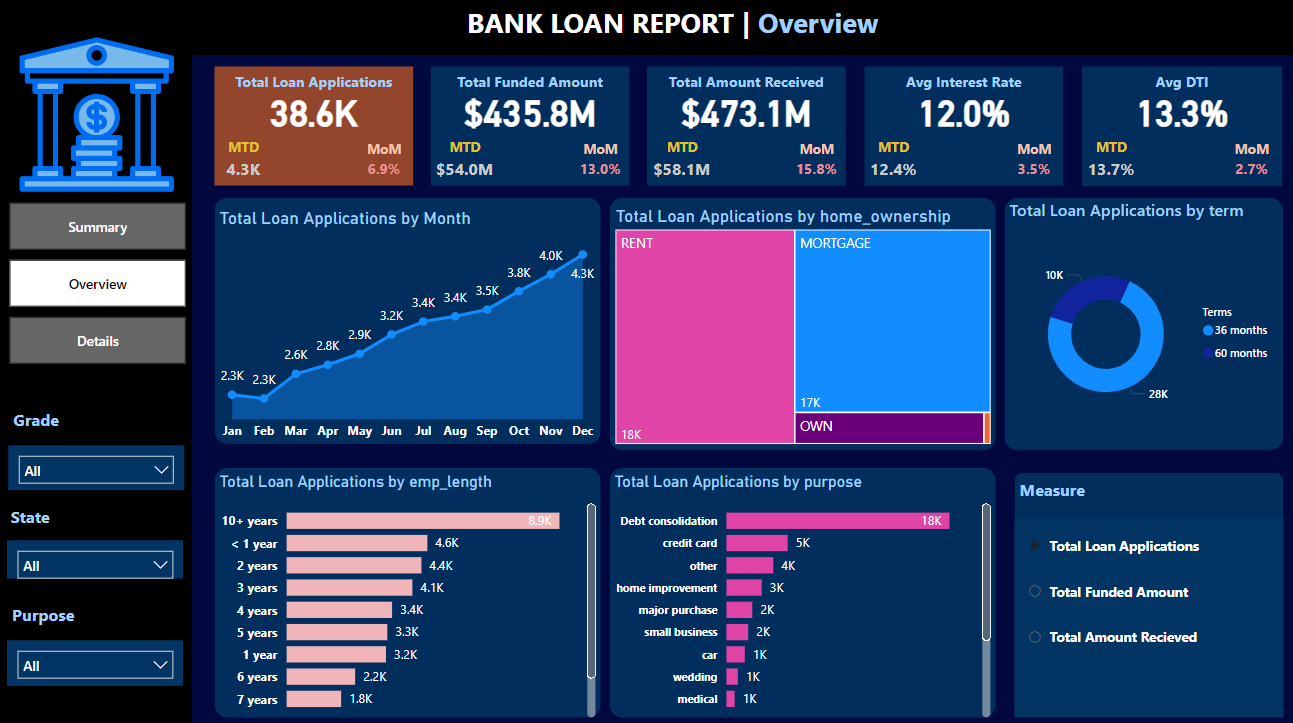

Layout of this report page (visuals, bound fields, positions):
{"tool":"powerbi","page":{"name":"Overview","canvas":[1280,720],"ordinal":1},"visuals":[{"type":"shape","box":[0,54,191.4,666.3],"z":0,"group":"g1"},{"type":"shape","box":[1065.4,66,196.4,117.5],"z":0,"group":"g6"},{"type":"shape","box":[214,66.1,195,117],"z":0,"group":"g2"},{"type":"shape","box":[426.3,66.1,195,117],"z":0,"group":"g3"},{"type":"shape","box":[638.5,66.1,195,117],"z":0,"group":"g4"},{"type":"shape","box":[851.8,66.1,195,117],"z":0,"group":"g5"},{"type":"shape","box":[998.8,465,263.8,149.7],"z":0},{"type":"card","fields":{"Values":["financial_loan.Total_Loan_Applications"]},"box":[214,82.1,195,55],"z":1000,"group":"g2"},{"type":"card","fields":{"Values":["financial_loan.Total Funded Amount"]},"box":[426.3,82.1,195,55],"z":1000,"group":"g3"},{"type":"card","fields":{"Values":["financial_loan.Total Amount Recieved"]},"box":[638.5,82.1,195,55],"z":1000,"group":"g4"},{"type":"card","fields":{"Values":["financial_loan.Avg Interest Rate"]},"box":[851.8,82.1,195,55],"z":1000,"group":"g5"},{"type":"card","fields":{"Values":["financial_loan.Avg DTI"]},"box":[1065.4,82.1,196.4,55.2],"z":1000,"group":"g6"},{"type":"shape","box":[213.5,460.1,379.1,245.4],"z":1000},{"type":"textbox","box":[1065.4,66,196.4,32.1],"z":2000,"group":"g6"},{"type":"textbox","box":[214,66.1,195,32],"z":2000,"group":"g2"},{"type":"textbox","box":[426.3,66.1,195,32],"z":2000,"group":"g3"},{"type":"textbox","box":[638.5,66.1,195,32],"z":2000,"group":"g4"},{"type":"textbox","box":[851.8,66.1,195,32],"z":2000,"group":"g5"},{"type":"barChart","fields":{"Y":["financial_loan.Total Loan Applications"],"Category":["financial_loan.emp_length"]},"box":[213.5,465,379.1,245.4],"z":2000},{"type":"shape","box":[0,0,1280,55],"z":3000},{"type":"card","title":"MTD","fields":{"Values":["financial_loan.MTD_Total_Loan_Applications"]},"box":[214,136.1,57,47],"z":3000,"group":"g2"},{"type":"card","title":"MTD","fields":{"Values":["financial_loan.MTD_Funded_Amount"]},"box":[426.3,136.1,67,47],"z":3000,"group":"g3"},{"type":"card","title":"MTD","fields":{"Values":["financial_loan.MTD_Amount_Recieved"]},"box":[638.5,136.1,69,47],"z":3000,"group":"g4"},{"type":"card","title":"MTD","fields":{"Values":["financial_loan.MTD Avg Rate"]},"box":[851.8,136.1,57,47],"z":3000,"group":"g5"},{"type":"card","title":"MTD","fields":{"Values":["financial_loan.MTD Avg DTI"]},"box":[1065.4,136.3,57.4,47.2],"z":3000,"group":"g6"},{"type":"group","id":"g1","title":"Group 5","box":[0,54,191.4,666.3],"z":4000},{"type":"card","title":"MoM","fields":{"Values":["financial_loan.MoM_Loan_Applications"]},"box":[351,137.1,58,46],"z":4000,"group":"g2"},{"type":"card","title":"MoM","fields":{"Values":["financial_loan.MoM_Funded_Amount"]},"box":[563.3,137.1,58,46],"z":4000,"group":"g3"},{"type":"card","title":"MoM","fields":{"Values":["financial_loan.MoM Amount Recieved"]},"box":[775.5,137.1,58,46],"z":4000,"group":"g4"},{"type":"card","title":"MoM","fields":{"Values":["financial_loan.MoM Avg Rate"]},"box":[988.8,137.1,58,46],"z":4000,"group":"g5"},{"type":"card","title":"MoM","fields":{"Values":["financial_loan.MoM Avg DTI"]},"box":[1203.4,137.3,58.4,46.2],"z":4000,"group":"g6"},{"type":"shape","box":[213.5,195.1,379.1,241.7],"z":5000},{"type":"textbox","box":[456,0,568,55],"z":6000},{"type":"textbox","box":[11,396.3,172.7,41],"z":6000,"group":"g9"},{"type":"textbox","box":[8.8,492.1,85.9,33.1],"z":6000,"group":"g7"},{"type":"textbox","box":[9.8,587.7,86.5,33.7],"z":6000,"group":"g8"},{"type":"group","id":"g2","title":"Group 1","box":[214,66.1,194.5,116.7],"z":7000},{"type":"group","id":"g3","title":"Group 1","box":[426.3,66.1,194.5,116.7],"z":8000},{"type":"group","id":"g4","title":"Group 1","box":[638.5,66.1,195.5,116.7],"z":9000},{"type":"group","id":"g5","title":"Group 1","box":[851.8,66.1,195.5,116.7],"z":10000},{"type":"group","id":"g6","title":"Group 1","box":[1065.4,66,196.9,117.2],"z":11000},{"type":"shape","box":[989,195.1,273.6,247.9],"z":12000},{"type":"shape","box":[601.2,460.1,379.1,245.4],"z":13000},{"type":"areaChart","fields":{"Y":["financial_loan.Total Loan Applications"],"Category":["Date Table.Month"]},"box":[213.5,204.9,379.1,236.8],"z":14000},{"type":"slicer","fields":{"Values":["Measure.Measure"]},"box":[998.8,509.2,263.8,196.3],"z":15000},{"type":"slicer","fields":{"Values":["financial_loan.grade"]},"box":[11.3,438.2,172.7,44],"z":16000,"group":"g9"},{"type":"textbox","box":[998.8,465,121.5,44.2],"z":16000},{"type":"slicer","fields":{"Values":["financial_loan.address_state"]},"box":[9.8,531.8,173,37.6],"z":16000,"group":"g7"},{"type":"slicer","fields":{"Values":["financial_loan.purpose"]},"box":[9.8,629,173,44.6],"z":16000,"group":"g8"},{"type":"donutChart","fields":{"Y":["financial_loan.Total Loan Applications"],"Category":["financial_loan.term"]},"box":[989,195.1,272.4,246.6],"z":17000},{"type":"barChart","fields":{"Y":["financial_loan.Total Loan Applications"],"Category":["financial_loan.purpose"]},"box":[601.2,465,379.1,245.4],"z":18000},{"type":"shape","box":[601.2,195.1,379.1,247.9],"z":19000},{"type":"treemap","fields":{"Values":["financial_loan.Total Loan Applications"],"Group":["financial_loan.home_ownership"]},"box":[602.5,202.5,377.9,239.3],"z":20000},{"type":"group","id":"g7","title":"Group 4","box":[8.8,492.1,174,77.2],"z":21000},{"type":"group","id":"g8","title":"Group 4","box":[9.8,587.7,173,85.9],"z":22000},{"type":"group","id":"g9","title":"Group 6","box":[11,396.3,173,85.9],"z":23000},{"type":"pageNavigator","box":[12.3,200,173,159.5],"z":23001},{"type":"image","box":[12.3,27,171.8,173],"z":23002}]}

Visuals, with their boxes in screenshot pixels (x1, y1, x2, y2), scaled from the page's 1280x720 canvas onto the 1293x723 screenshot:
shape: <bbox>0, 54, 193, 722</bbox>
shape: <bbox>1076, 66, 1275, 184</bbox>
shape: <bbox>216, 66, 413, 184</bbox>
shape: <bbox>431, 66, 628, 184</bbox>
shape: <bbox>645, 66, 842, 184</bbox>
shape: <bbox>860, 66, 1057, 184</bbox>
shape: <bbox>1009, 467, 1275, 617</bbox>
card - financial_loan.Total_Loan_Applications: <bbox>216, 82, 413, 138</bbox>
card - financial_loan.Total Funded Amount: <bbox>431, 82, 628, 138</bbox>
card - financial_loan.Total Amount Recieved: <bbox>645, 82, 842, 138</bbox>
card - financial_loan.Avg Interest Rate: <bbox>860, 82, 1057, 138</bbox>
card - financial_loan.Avg DTI: <bbox>1076, 82, 1275, 138</bbox>
shape: <bbox>216, 462, 599, 708</bbox>
textbox: <bbox>1076, 66, 1275, 99</bbox>
textbox: <bbox>216, 66, 413, 99</bbox>
textbox: <bbox>431, 66, 628, 99</bbox>
textbox: <bbox>645, 66, 842, 99</bbox>
textbox: <bbox>860, 66, 1057, 99</bbox>
barChart - financial_loan.Total Loan Applications x financial_loan.emp_length: <bbox>216, 467, 599, 713</bbox>
shape: <bbox>0, 0, 1292, 55</bbox>
"MTD" card: <bbox>216, 137, 274, 184</bbox>
"MTD" card: <bbox>431, 137, 498, 184</bbox>
"MTD" card: <bbox>645, 137, 715, 184</bbox>
"MTD" card: <bbox>860, 137, 918, 184</bbox>
"MTD" card: <bbox>1076, 137, 1134, 184</bbox>
"Group 5" group: <bbox>0, 54, 193, 722</bbox>
"MoM" card: <bbox>355, 138, 413, 184</bbox>
"MoM" card: <bbox>569, 138, 628, 184</bbox>
"MoM" card: <bbox>783, 138, 842, 184</bbox>
"MoM" card: <bbox>999, 138, 1057, 184</bbox>
"MoM" card: <bbox>1216, 138, 1275, 184</bbox>
shape: <bbox>216, 196, 599, 439</bbox>
textbox: <bbox>461, 0, 1034, 55</bbox>
textbox: <bbox>11, 398, 186, 439</bbox>
textbox: <bbox>9, 494, 96, 527</bbox>
textbox: <bbox>10, 590, 97, 624</bbox>
"Group 1" group: <bbox>216, 66, 413, 184</bbox>
"Group 1" group: <bbox>431, 66, 627, 184</bbox>
"Group 1" group: <bbox>645, 66, 842, 184</bbox>
"Group 1" group: <bbox>860, 66, 1058, 184</bbox>
"Group 1" group: <bbox>1076, 66, 1275, 184</bbox>
shape: <bbox>999, 196, 1275, 445</bbox>
shape: <bbox>607, 462, 990, 708</bbox>
areaChart - financial_loan.Total Loan Applications x Date Table.Month: <bbox>216, 206, 599, 444</bbox>
slicer - Measure.Measure: <bbox>1009, 511, 1275, 708</bbox>
slicer - financial_loan.grade: <bbox>11, 440, 186, 484</bbox>
textbox: <bbox>1009, 467, 1132, 511</bbox>
slicer - financial_loan.address_state: <bbox>10, 534, 185, 572</bbox>
slicer - financial_loan.purpose: <bbox>10, 632, 185, 676</bbox>
donutChart - financial_loan.Total Loan Applications x financial_loan.term: <bbox>999, 196, 1274, 444</bbox>
barChart - financial_loan.Total Loan Applications x financial_loan.purpose: <bbox>607, 467, 990, 713</bbox>
shape: <bbox>607, 196, 990, 445</bbox>
treemap - financial_loan.Total Loan Applications x financial_loan.home_ownership: <bbox>609, 203, 990, 444</bbox>
"Group 4" group: <bbox>9, 494, 185, 572</bbox>
"Group 4" group: <bbox>10, 590, 185, 676</bbox>
"Group 6" group: <bbox>11, 398, 186, 484</bbox>
pageNavigator: <bbox>12, 201, 187, 361</bbox>
image: <bbox>12, 27, 186, 201</bbox>
